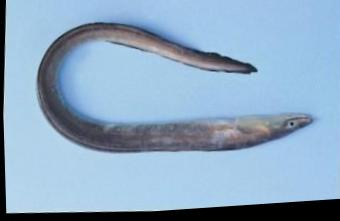fish: (36, 23, 312, 154)
